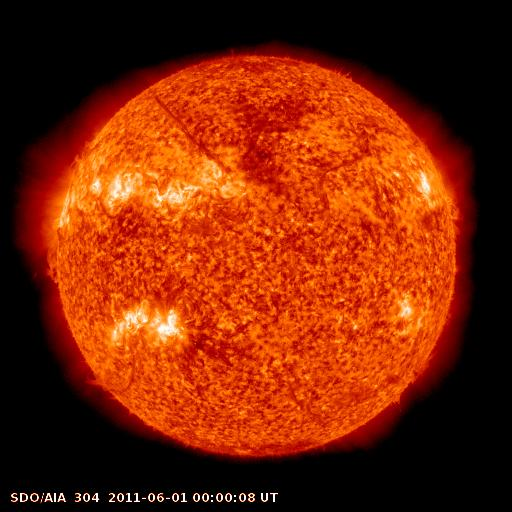prominence: (68, 346, 131, 420), (38, 228, 78, 294)
